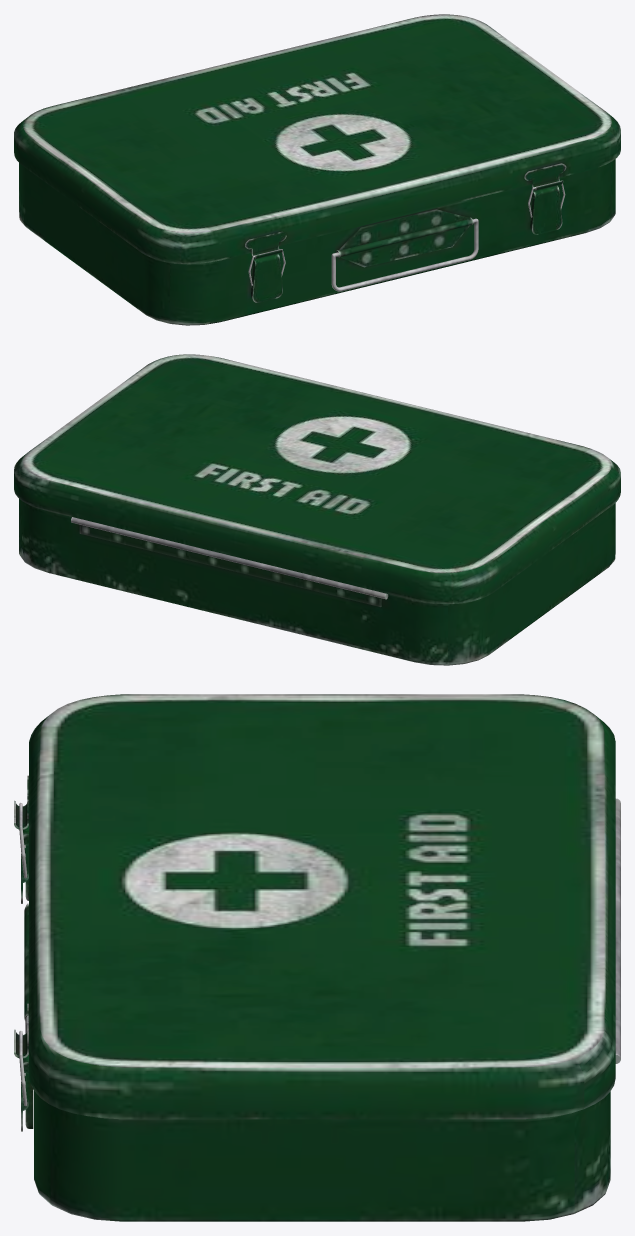
The model's file is medical_box.glb.
3 renders of one model, top to bottom at view 1: azimuth 30°, elevation 25°; view 2: azimuth 150°, elevation 25°; view 3: azimuth 270°, elevation 25°, orthographic. The views are drawn at different scales.
Parts seen in each view (by area): view 1: medical_box_lid, medical_box, medical_box_latch, medical_box_handle; view 2: medical_box_lid, medical_box; view 3: medical_box_lid, medical_box.
Boxes of the visible parts, x1,y1,x2,y2 form: medical_box_lid: (14, 14, 620, 264); medical_box: (19, 159, 615, 325); medical_box_latch: (251, 185, 562, 302); medical_box_handle: (331, 218, 478, 291); medical_box_lid: (14, 354, 620, 603); medical_box: (19, 499, 615, 665); medical_box_lid: (14, 694, 615, 1119); medical_box: (24, 798, 620, 1221).
Size of the model in its own units: 0.5255 by 0.0975 by 0.3502.
1 material, 1 textured.
